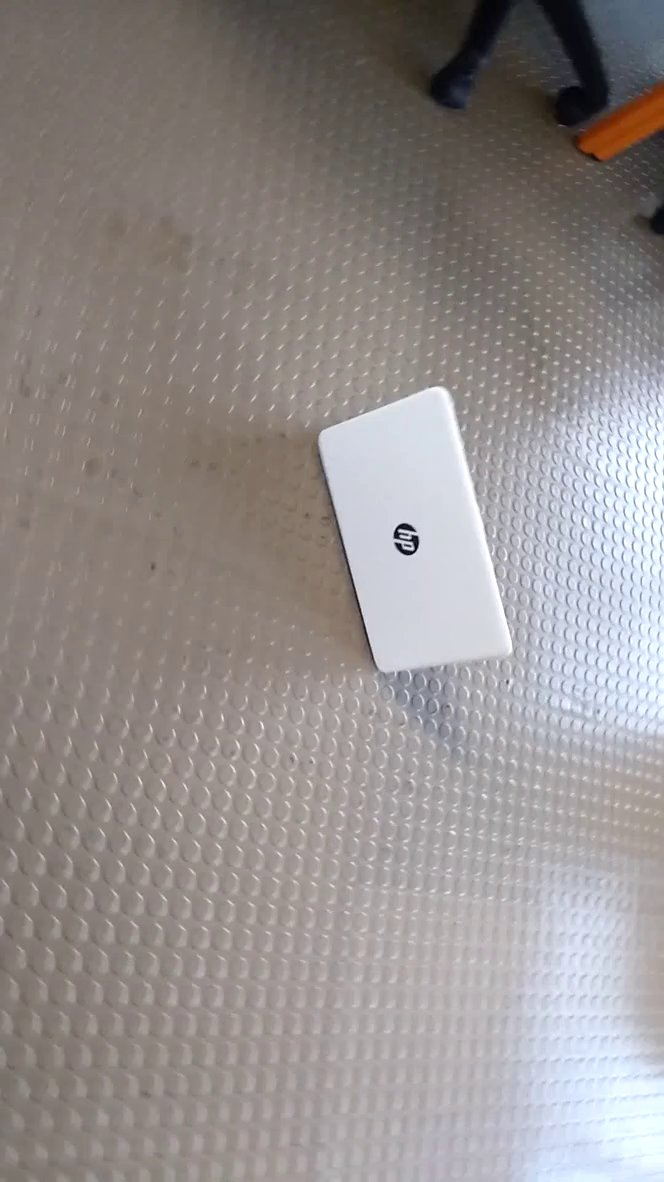laptop: (310, 373, 518, 684)
